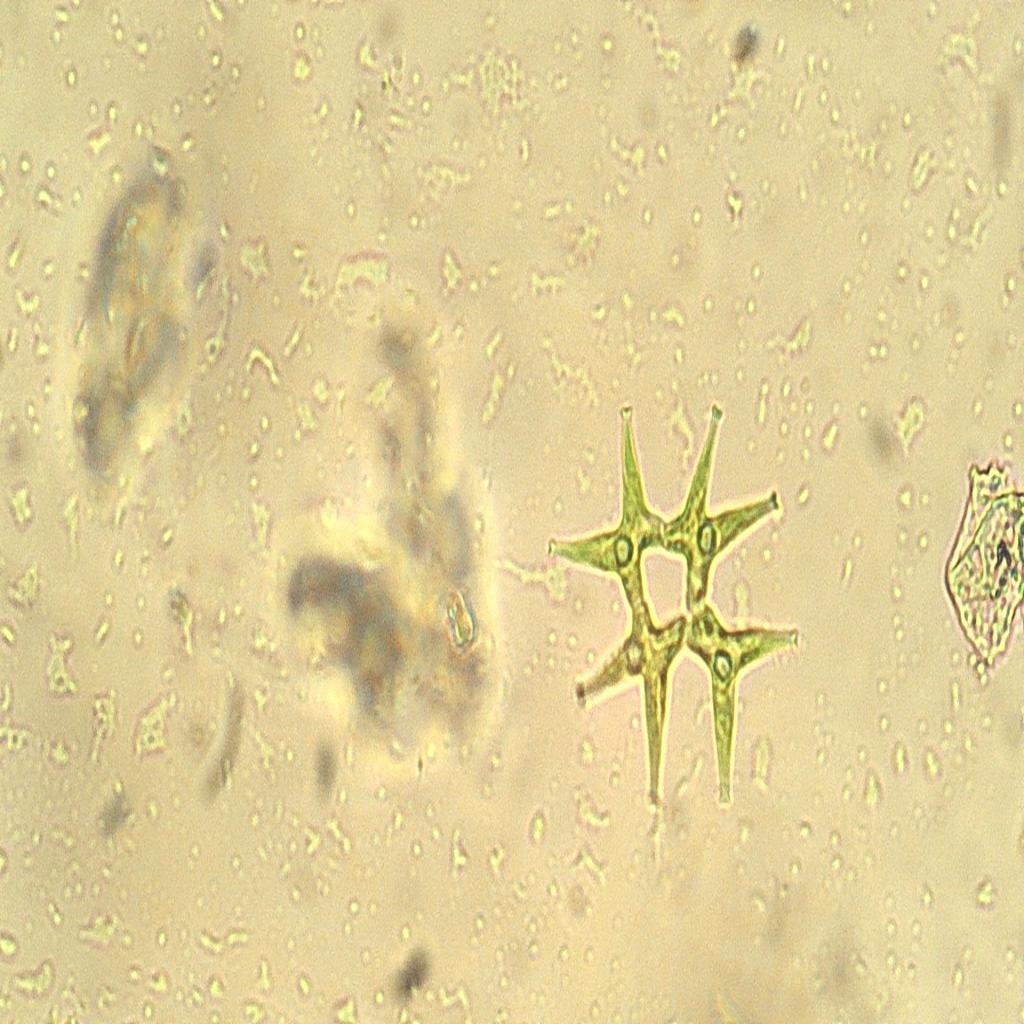Pediastrum_75FI: (540, 375, 811, 832)
